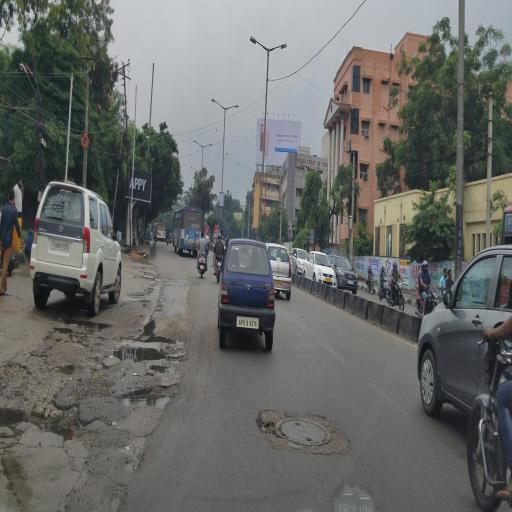street_light_0: (266, 34, 296, 68), (244, 34, 269, 68), (225, 92, 244, 120), (208, 92, 228, 118), (201, 134, 215, 154), (190, 130, 202, 150)
